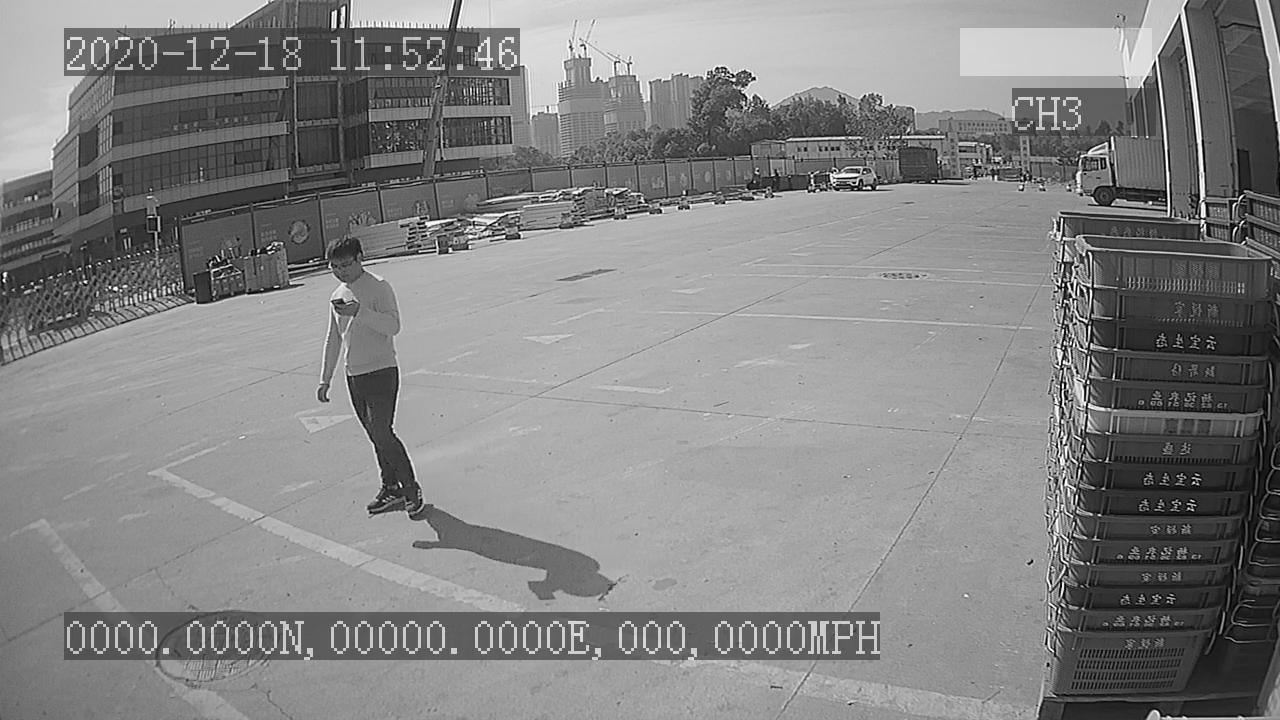person: (299, 231, 429, 524)
